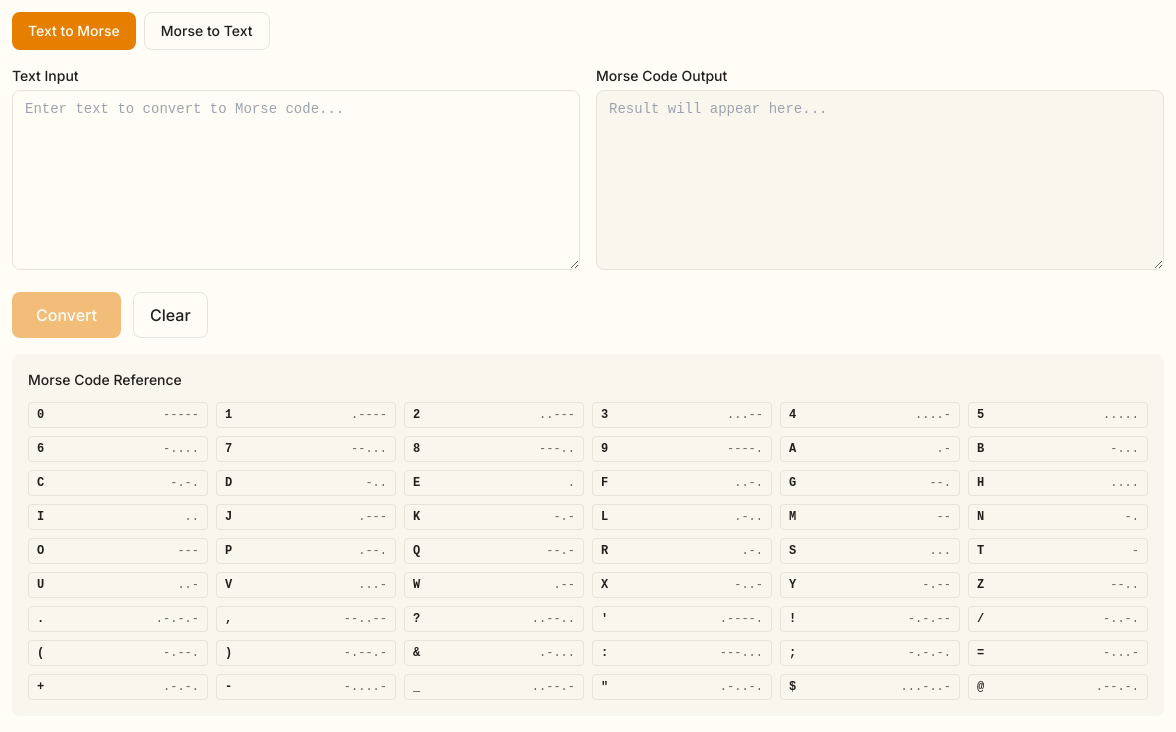
Test case: MorseCode › converts text with spaces to morse with word separators
Step 1. Type "HI MOM" into the text box named "Text input" → (296, 180), box x1=12 y1=90 x2=580 y2=270
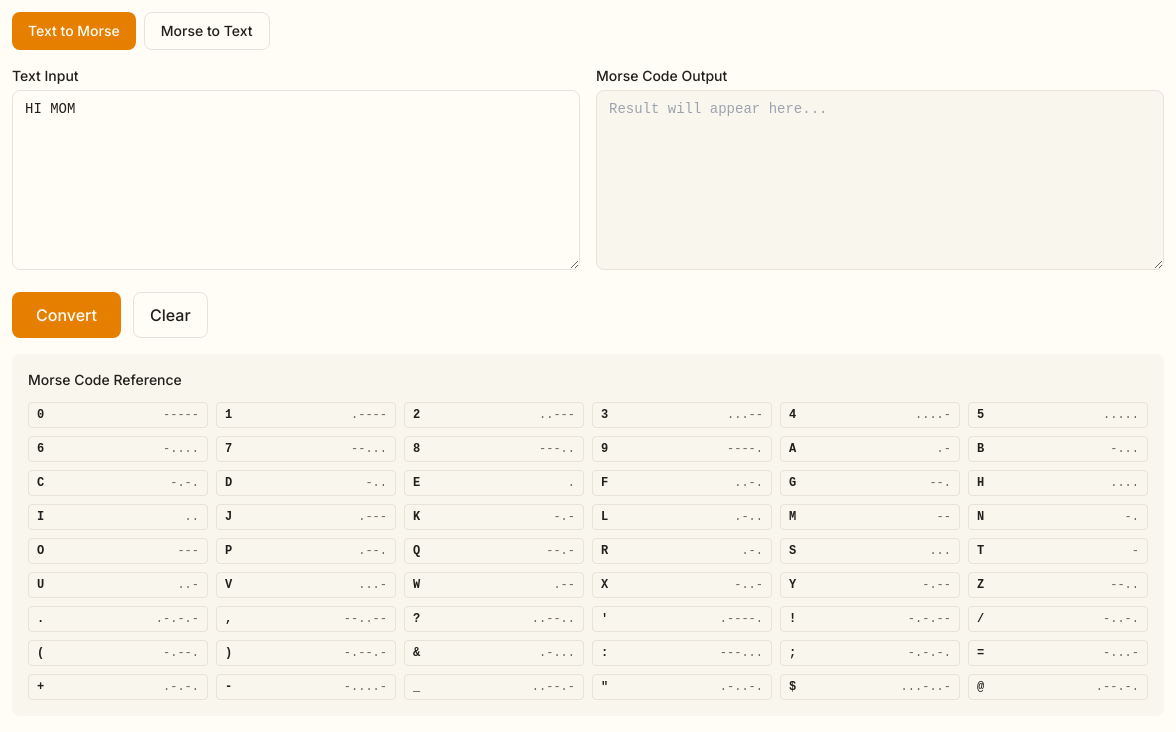
Step 2. Click the button "Convert" → (66, 315), box x1=12 y1=292 x2=121 y2=338
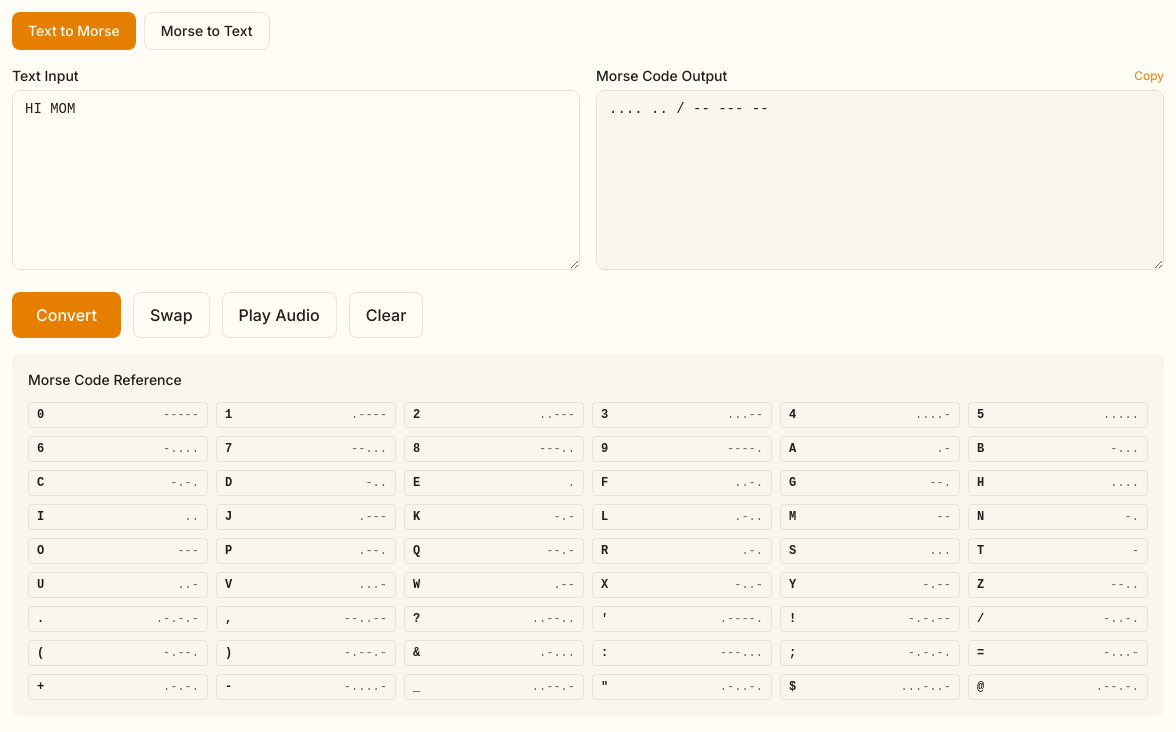
Now the text box named "Conversion output" holds ".... .. / -- --- --", box x1=596 y1=90 x2=1164 y2=270
